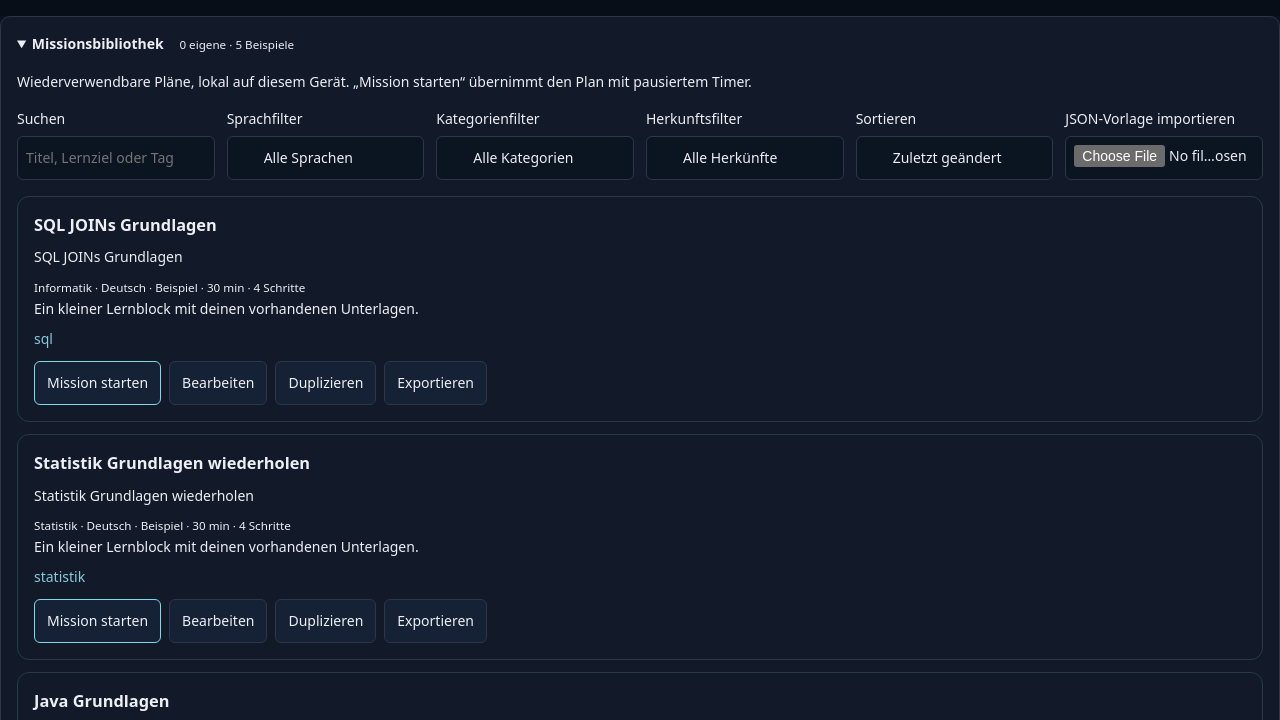
Scenario: filtert und sucht, ohne den aktiven Plan anzufassen
Step 1. Select "Englisch" in the dropdown labelled "Sprachfilter" → [326, 158], box [227,136,424,180]
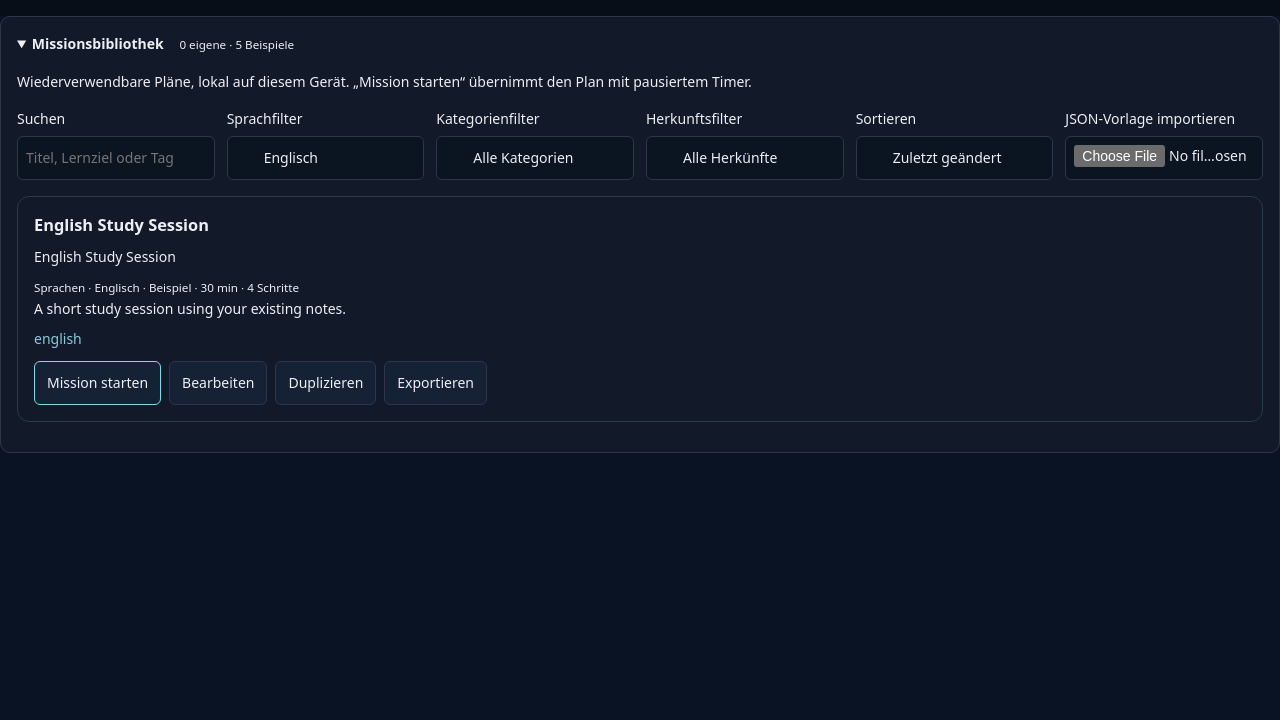
Result: the number of list items is 1 at [17,196,1263,422]
Step 2. Type "sql" into the search field labelled "Suchen" → [116, 158], box [17,136,215,180]
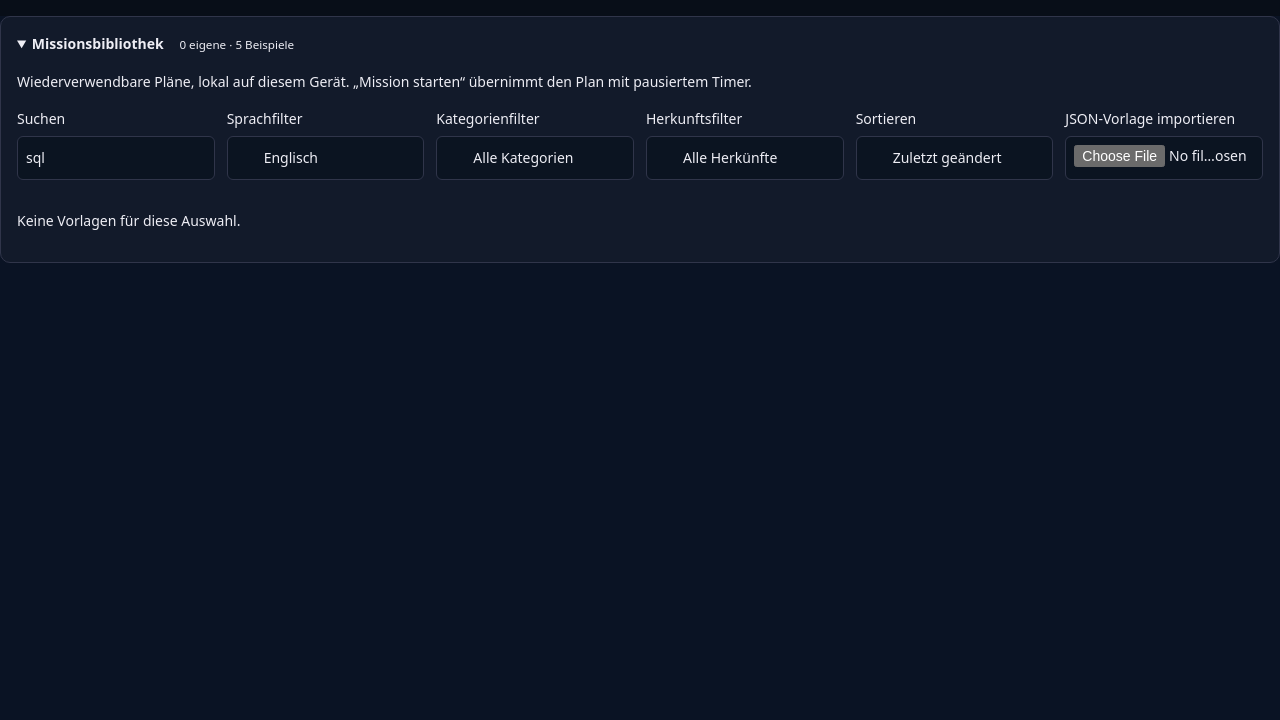
Result: no list items are shown
